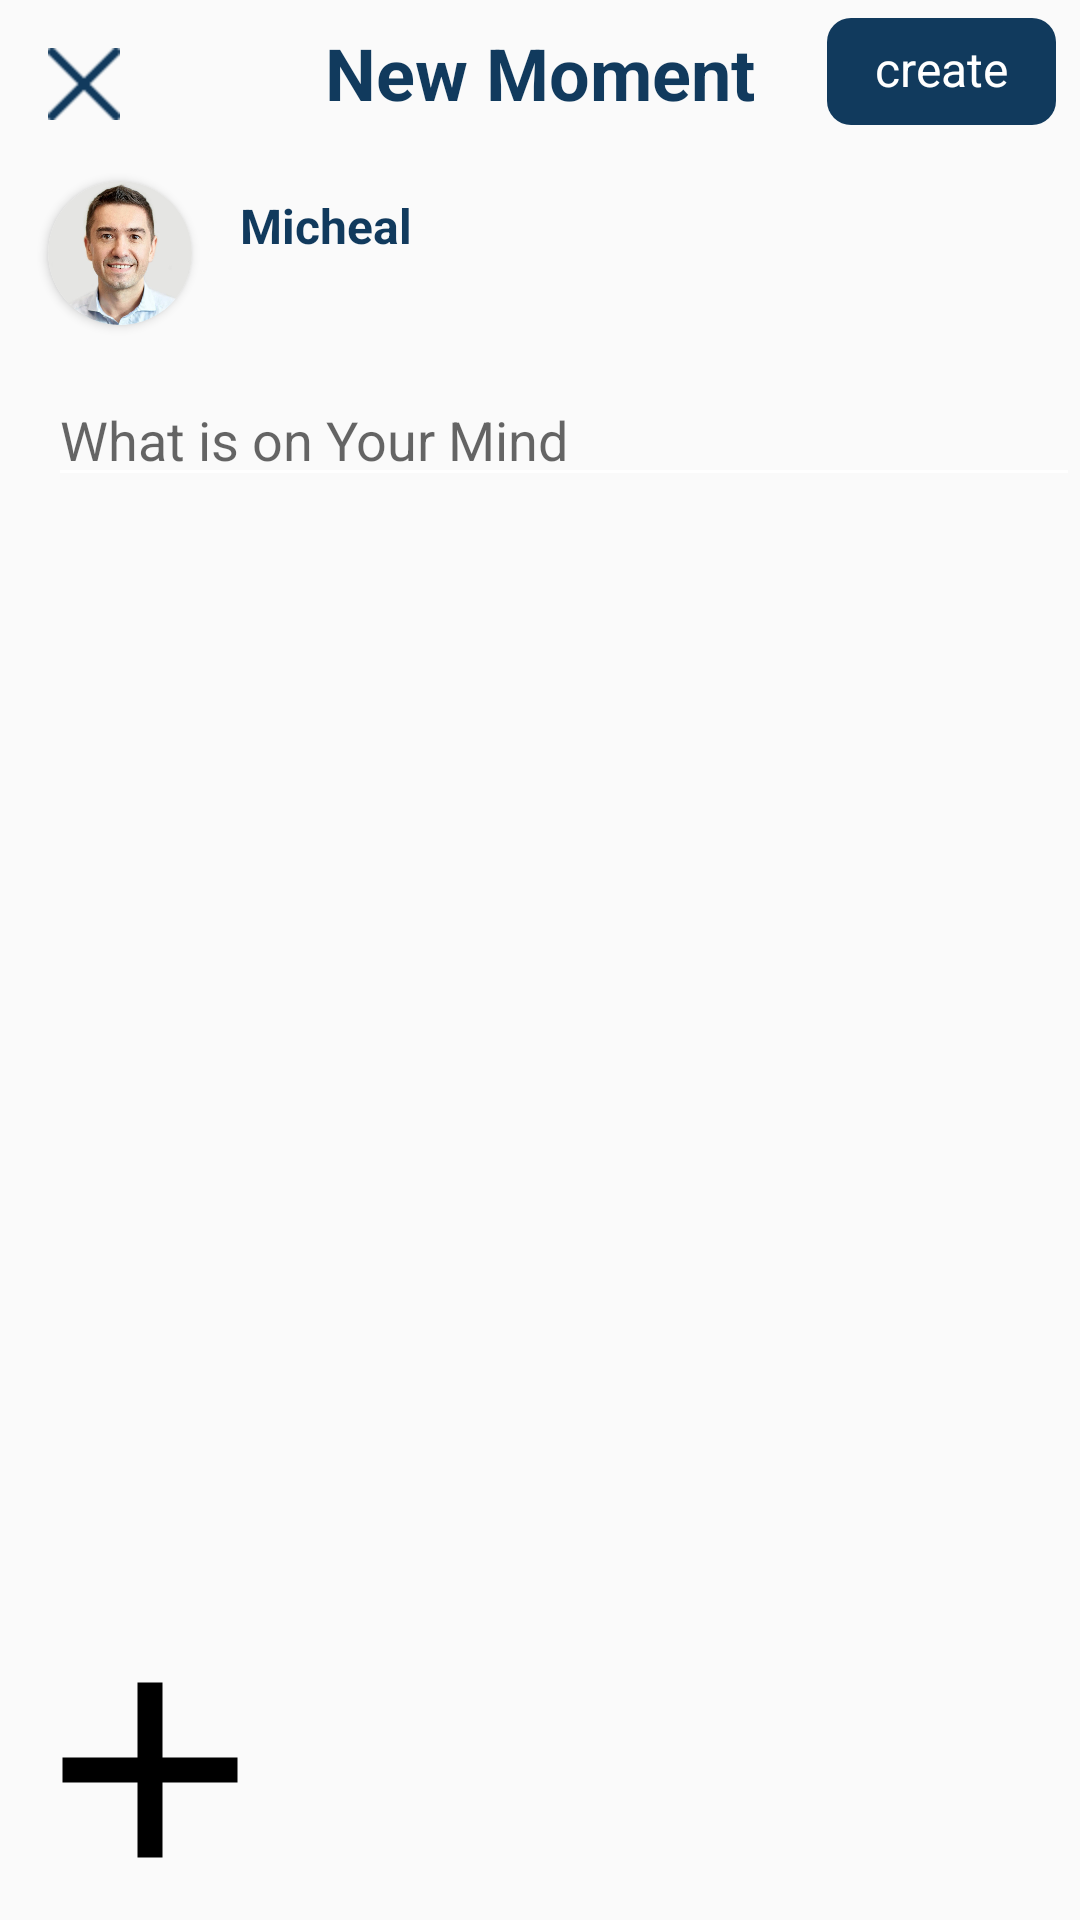

Screen size 1080w x 1920h. Icon name, then its center in pixels as [x,y]:
add: [150,1770]
cancel: [84,84]
profile demp: [120,253]
